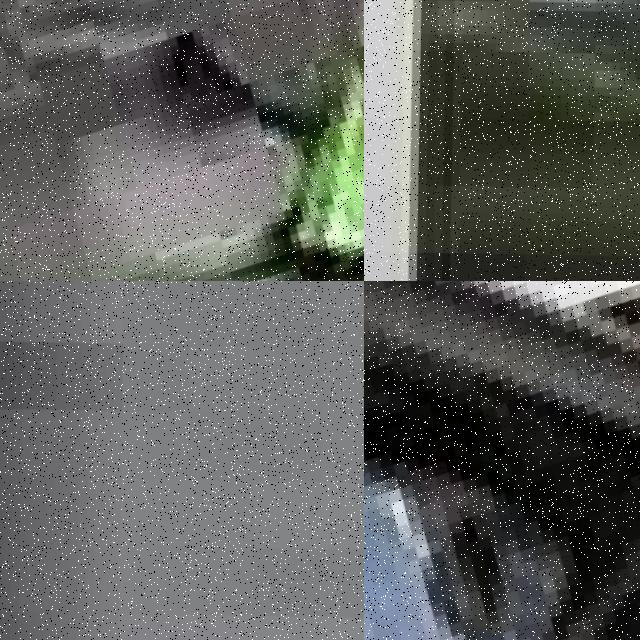0: (0, 0, 364, 281)
drone: (364, 281, 640, 640)
